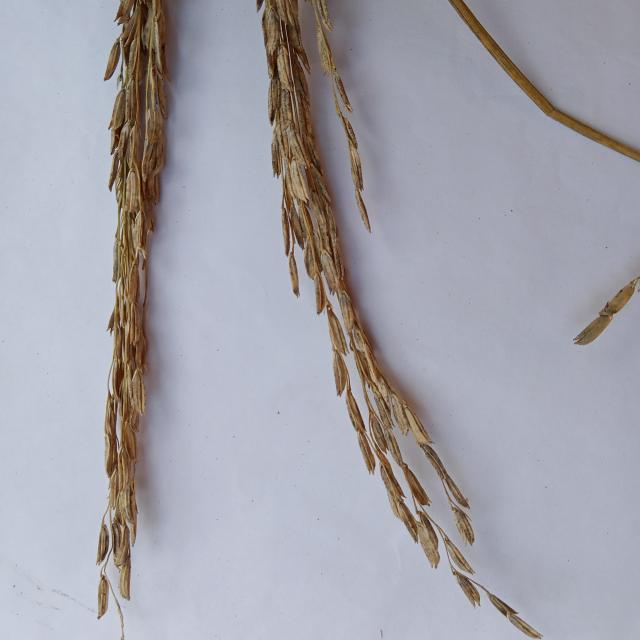Neck_Blast: (265, 2, 411, 445), (93, 2, 163, 554)
